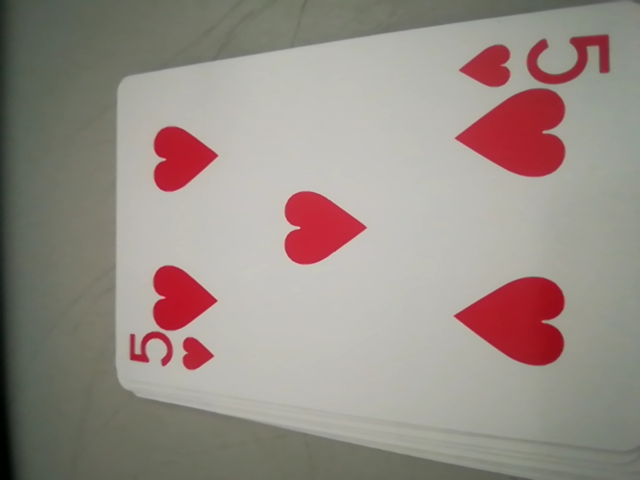hx 5: (460, 24, 613, 94), (121, 327, 219, 382)
